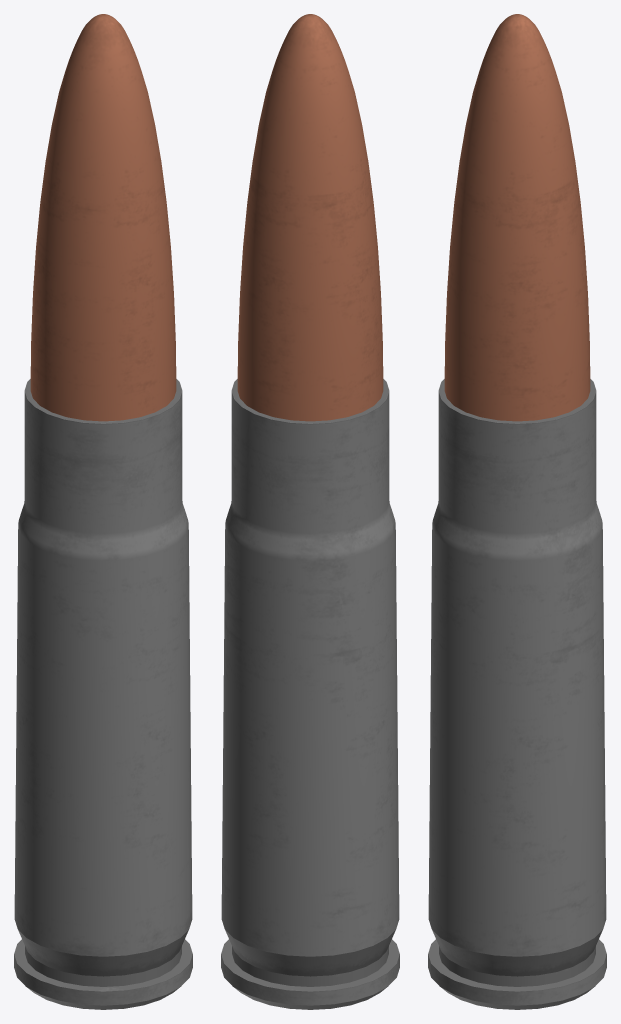
Rendered from 300_blackout_cartridge.glb.
The picture shows the model from 3 angles, left to right: view 1: azimuth 30°, elevation 25°; view 2: azimuth 150°, elevation 25°; view 3: azimuth 270°, elevation 25°; orthographic projection.
Parts seen in each view (by area): view 1: .300 BLKOUT CASING 24_low, .300 BLKOUT BULLET EXPORT24_low; view 2: .300 BLKOUT CASING 24_low, .300 BLKOUT BULLET EXPORT24_low; view 3: .300 BLKOUT CASING 24_low, .300 BLKOUT BULLET EXPORT24_low.
Part boxes in pixels (x1,y1,x2,y2): .300 BLKOUT CASING 24_low: (14, 379, 192, 1009); .300 BLKOUT BULLET EXPORT24_low: (30, 14, 176, 421); .300 BLKOUT CASING 24_low: (221, 379, 399, 1009); .300 BLKOUT BULLET EXPORT24_low: (237, 14, 383, 421); .300 BLKOUT CASING 24_low: (428, 379, 606, 1009); .300 BLKOUT BULLET EXPORT24_low: (444, 14, 590, 421).
Bounding box in the file's own units: 0.0096 × 0.0569 × 0.0096.
Materials: 1 (1 with a texture image).
